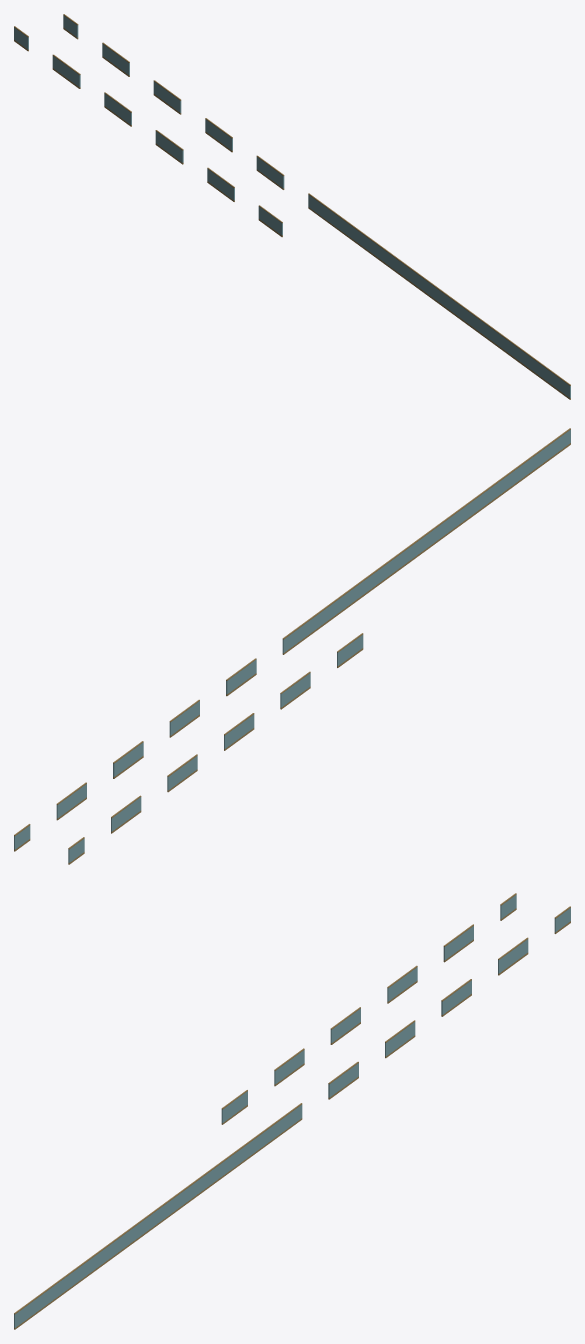
Rendered from D04_STARBOARD_SOUTH_ENTRYGUARDSUCCESSORS_r001.glb.
3 views of the same model, one above another, from view 1: azimuth 30°, elevation 25°; view 2: azimuth 150°, elevation 25°; view 3: azimuth 330°, elevation 25° (orthographic). The views are drawn at different scales.
Parts seen in each view (by area): view 1: D04SFP_OuterGuard_08_Successor_5, D04SFP_OuterGuard_08_Cap_Successor_5, D04SFP_OuterGuard_08_Base_Successor_5; view 2: D04SFP_OuterGuard_08_Successor_5, D04SFP_OuterGuard_08_Cap_Successor_5, D04SFP_OuterGuard_08_Base_Successor_5; view 3: D04SFP_OuterGuard_08_Successor_5, D04SFP_OuterGuard_08_Cap_Successor_5, D04SFP_OuterGuard_08_Base_Successor_5.
Part boxes in pixels (x1,y1,x2,y2): D04SFP_OuterGuard_08_Successor_5: (308,195,570,398); D04SFP_OuterGuard_08_Cap_Successor_5: (308,193,570,385); D04SFP_OuterGuard_08_Base_Successor_5: (308,207,570,399); D04SFP_OuterGuard_08_Successor_5: (282,430,570,653); D04SFP_OuterGuard_08_Cap_Successor_5: (282,428,570,639); D04SFP_OuterGuard_08_Base_Successor_5: (282,443,570,654); D04SFP_OuterGuard_08_Successor_5: (14,1104,302,1327); D04SFP_OuterGuard_08_Cap_Successor_5: (14,1103,302,1314); D04SFP_OuterGuard_08_Base_Successor_5: (14,1118,302,1329).
Bounding box in the file's own units: 4.18 × 1.18 × 72.8.
Materials: 2 (1 with a texture image).
